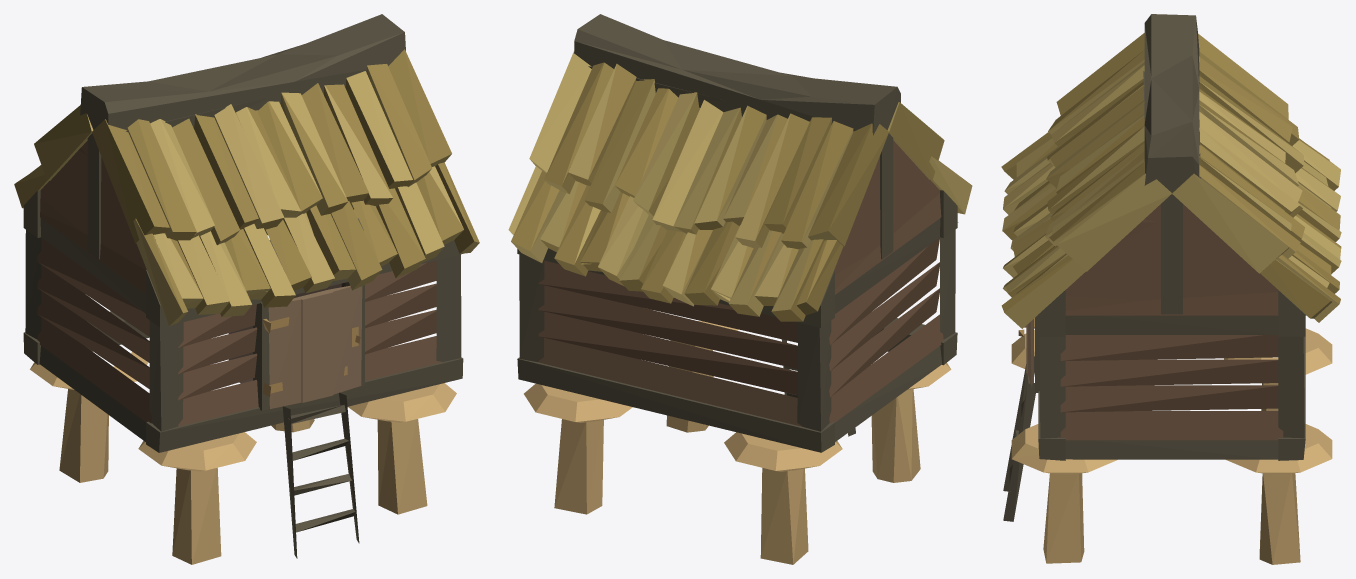
The model's file is pf_granary.glb.
3 renders of one model, left to right at view 1: azimuth 30°, elevation 25°; view 2: azimuth 150°, elevation 25°; view 3: azimuth 270°, elevation 25°, orthographic. The views are drawn at different scales.
Parts seen in each view (by area): view 1: body, body__far; view 2: body, body__far; view 3: body, body__far.
Part boxes in pixels (x1,y1,x2,y2): body: (14, 14, 479, 564); body__far: (40, 98, 371, 297); body: (508, 14, 972, 564); body__far: (581, 66, 958, 301); body: (1001, 14, 1341, 564); body__far: (1065, 71, 1278, 300).
Size of the model in its own units: 1.18 by 1.6 by 1.17.
